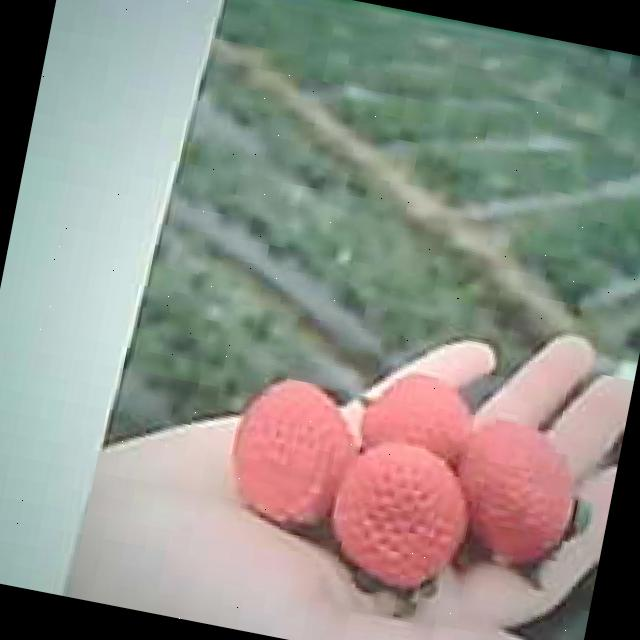strawberry: (320, 434, 475, 600), (223, 372, 363, 531), (444, 417, 582, 575)
